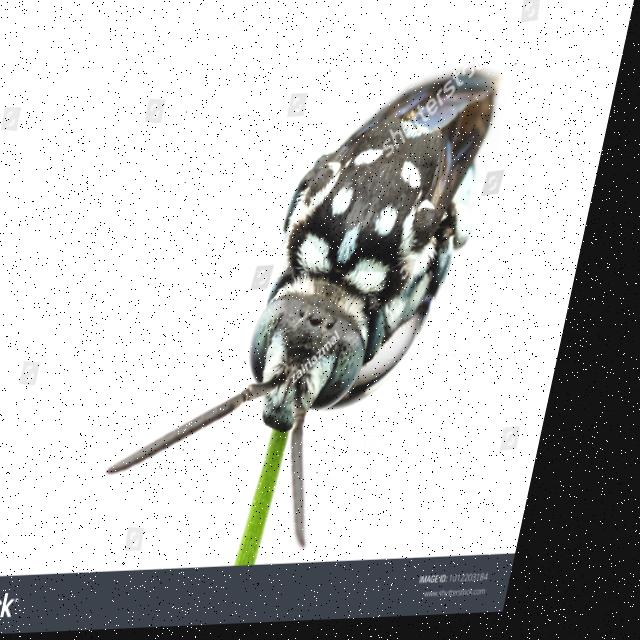Thyreus: (110, 60, 527, 562)
